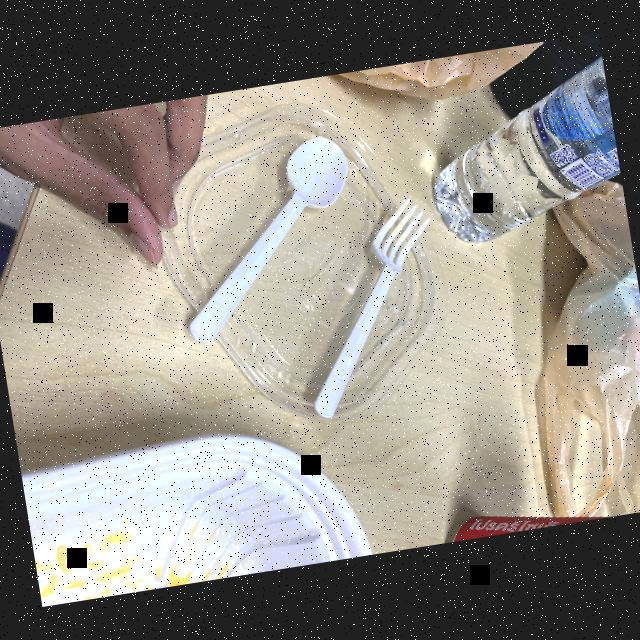plastic_spoon: (158, 124, 377, 354), (271, 188, 456, 424)
